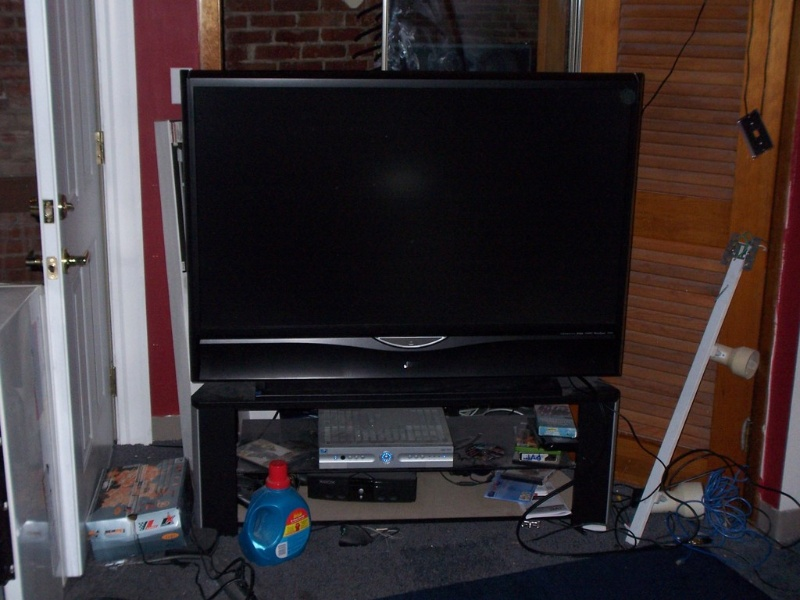tv: (176, 69, 646, 394)
